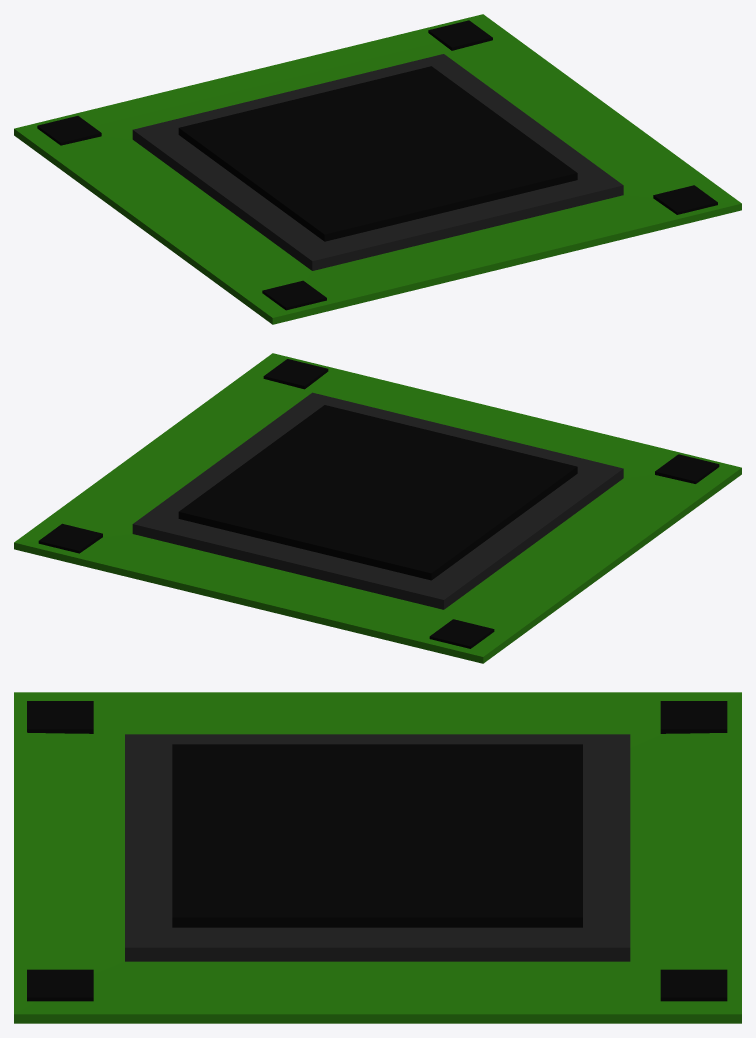
File: Criptografia Quântica.fbx
3 views of the same model, one above another, from view 1: azimuth 30°, elevation 25°; view 2: azimuth 150°, elevation 25°; view 3: azimuth 270°, elevation 25° (orthographic). The views are drawn at different scales.
Visible parts, largest first — view 1: Cube, Cube.001, Cube.002; view 2: Cube, Cube.002, Cube.001; view 3: Cube, Cube.001, Cube.002.
Boxes of the visible parts, bbox=[...] form: Cube: bbox=[14, 14, 741, 324]; Cube.001: bbox=[37, 20, 492, 145]; Cube.002: bbox=[262, 185, 717, 310]; Cube: bbox=[14, 353, 741, 663]; Cube.002: bbox=[263, 359, 719, 483]; Cube.001: bbox=[38, 523, 494, 648]; Cube: bbox=[14, 692, 741, 1023]; Cube.001: bbox=[660, 701, 727, 1001]; Cube.002: bbox=[27, 701, 93, 1001].
Size of the model in its own units: 1392 by 64.07 by 1329.
